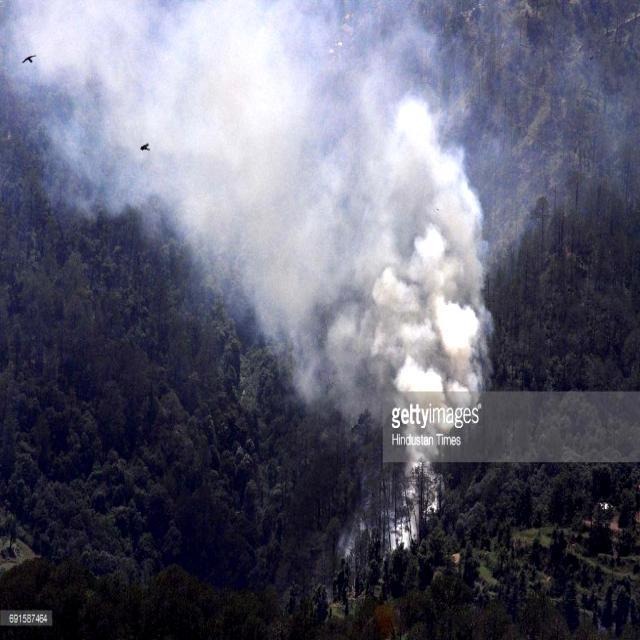Smoke: (158, 0, 494, 507)
